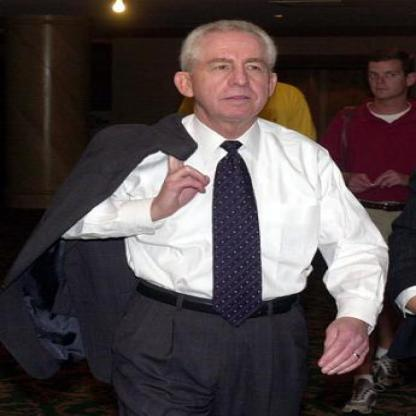face: (190, 24, 275, 125), (367, 55, 408, 101)
